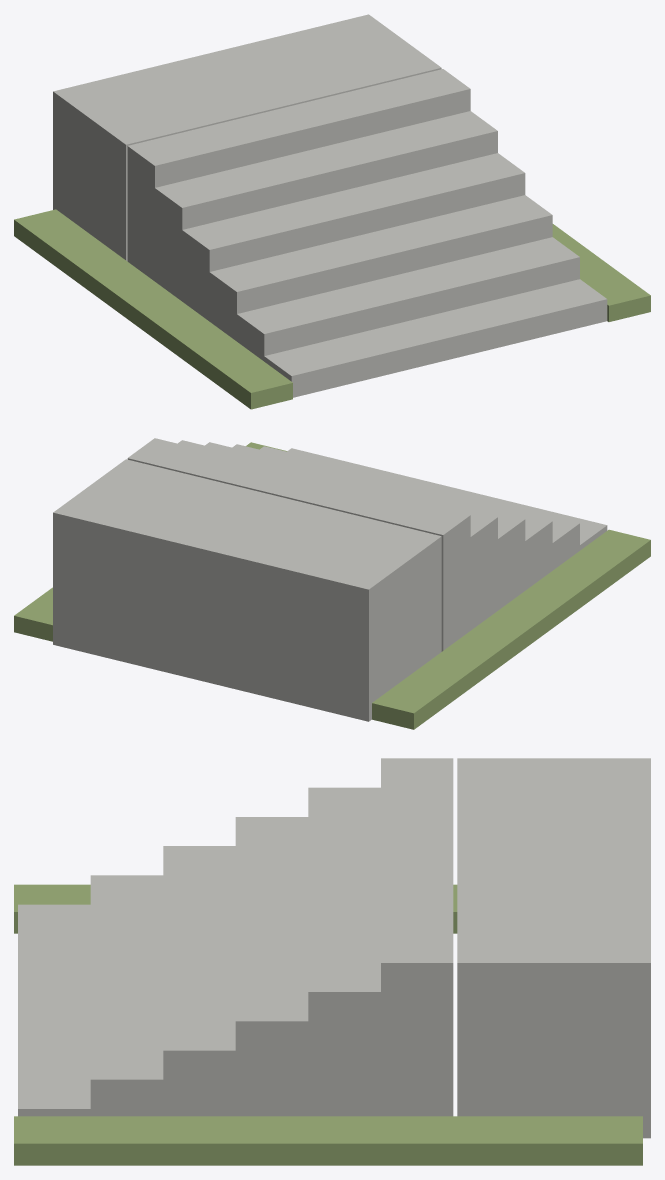
The model's file is ishidan.glb.
3 renders of one model, top to bottom at view 1: azimuth 30°, elevation 25°; view 2: azimuth 150°, elevation 25°; view 3: azimuth 270°, elevation 25°, orthographic. The views are drawn at different scales.
Parts seen in each view (by area): view 1: ishidan; view 2: ishidan; view 3: ishidan.
Part boxes in pixels (left/top/right/bottom): ishidan: left=14, top=14, right=650, bottom=409; ishidan: left=14, top=438, right=650, bottom=729; ishidan: left=14, top=758, right=650, bottom=1165.
Bounding box in the file's own units: 3.8 × 1.2 × 3.95.
